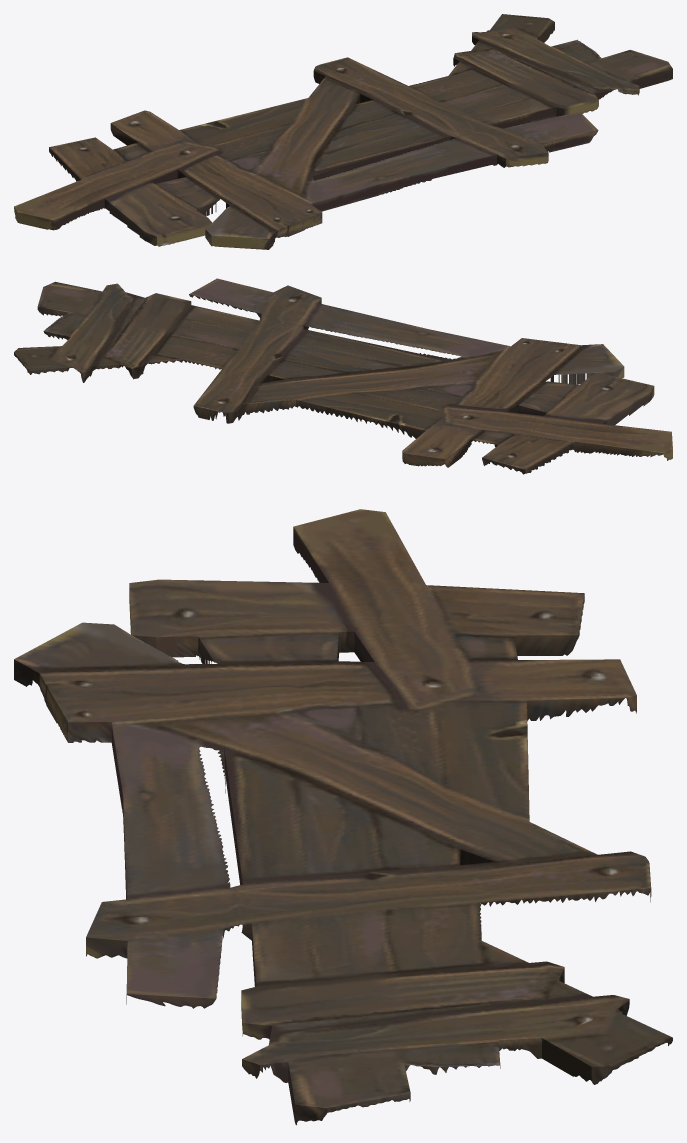
Rendered from yw_shamo_muqiao_001.FBX.
3 views of the same model, one above another, from view 1: azimuth 30°, elevation 25°; view 2: azimuth 150°, elevation 25°; view 3: azimuth 270°, elevation 25° (orthographic). The views are drawn at different scales.
Visible parts, largest first — view 1: yw_shamo_muqiao_001; view 2: yw_shamo_muqiao_001; view 3: yw_shamo_muqiao_001.
Boxes of the visible parts, x1,y1,x2,y2 form: yw_shamo_muqiao_001: [14, 14, 672, 249]; yw_shamo_muqiao_001: [14, 278, 672, 474]; yw_shamo_muqiao_001: [14, 509, 672, 1125].
Bounding box in the file's own units: 72.95 × 33.91 × 1.17.
